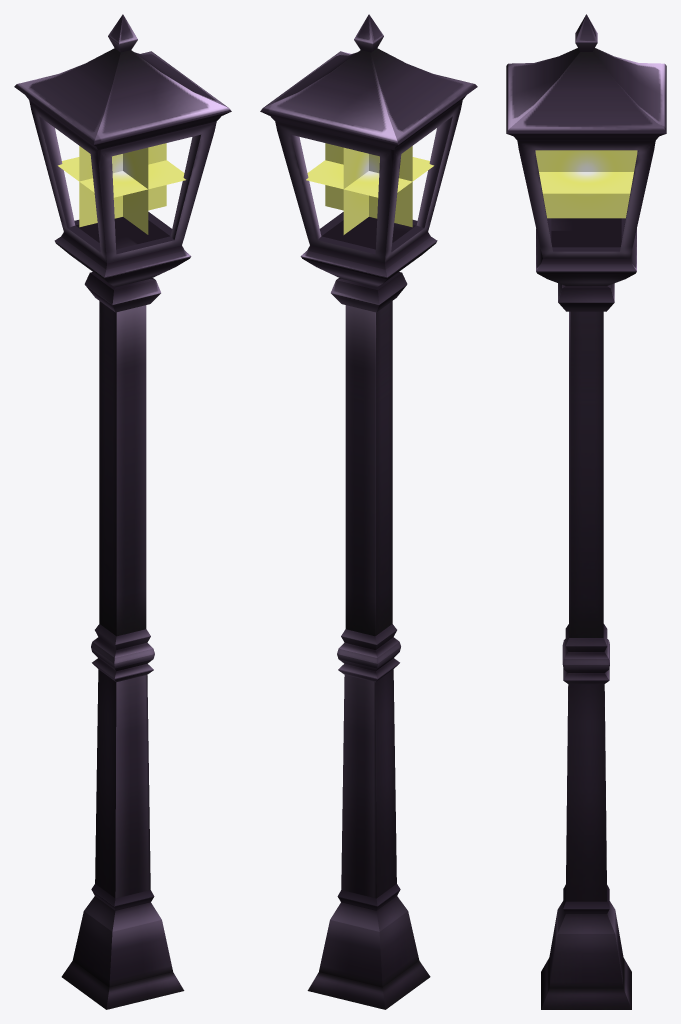
Rendered from Object_StreetLamp.FBX.
3 views of the same model, side by side, from view 1: azimuth 30°, elevation 25°; view 2: azimuth 150°, elevation 25°; view 3: azimuth 270°, elevation 25° (orthographic).
Parts seen in each view (by area): view 1: Box42, Plane04; view 2: Box42, Plane04; view 3: Box42, Plane04.
Boxes of the visible parts, x1,y1,x2,y2 form: Box42: (14,14,231,1009); Plane04: (58,143,185,234); Box42: (260,14,477,1009); Plane04: (306,143,433,234); Box42: (506,14,666,1009); Plane04: (535,150,637,218).
Size of the model in its own units: 77.92 by 523 by 77.92.
